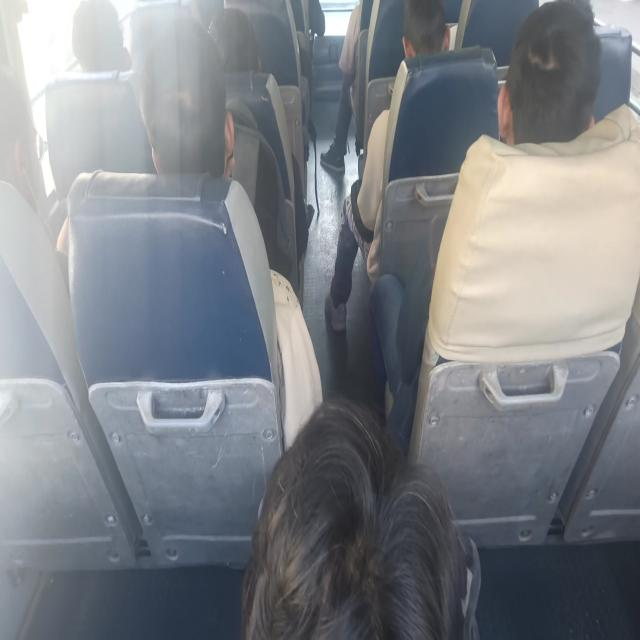person: (56, 12, 323, 449), (369, 0, 602, 449), (241, 395, 481, 638), (323, 0, 451, 332), (208, 7, 314, 291), (138, 15, 235, 177), (497, 0, 602, 146), (0, 66, 65, 250), (319, 1, 362, 174), (71, 0, 132, 73), (209, 7, 260, 73)
